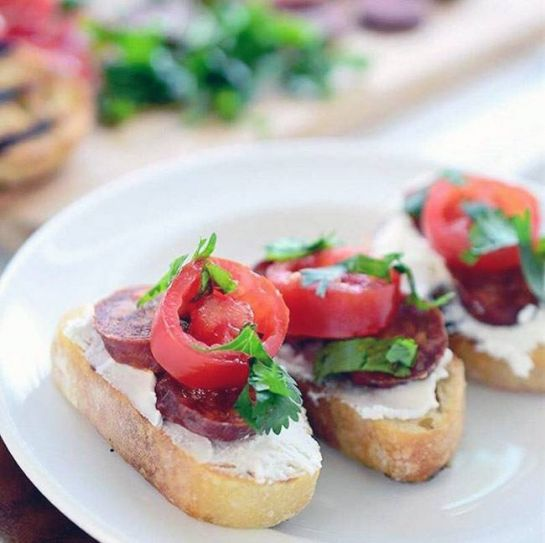slice of bread: (44, 358, 317, 534), (324, 361, 475, 486)
